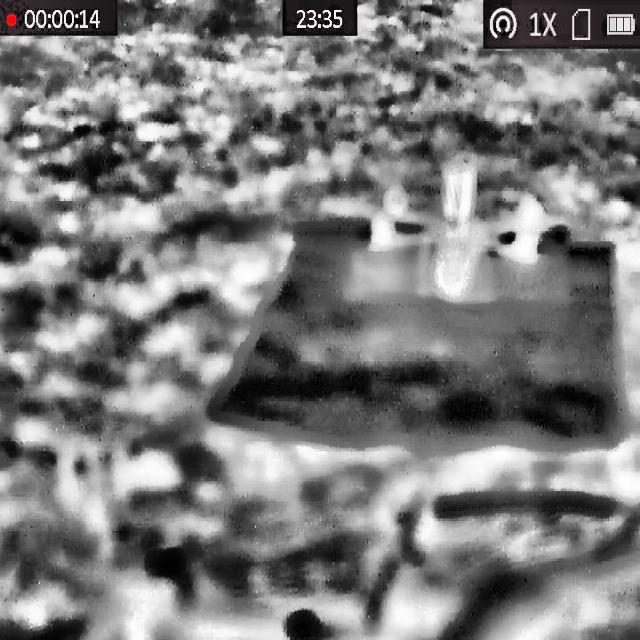drone: (369, 159, 546, 306)
